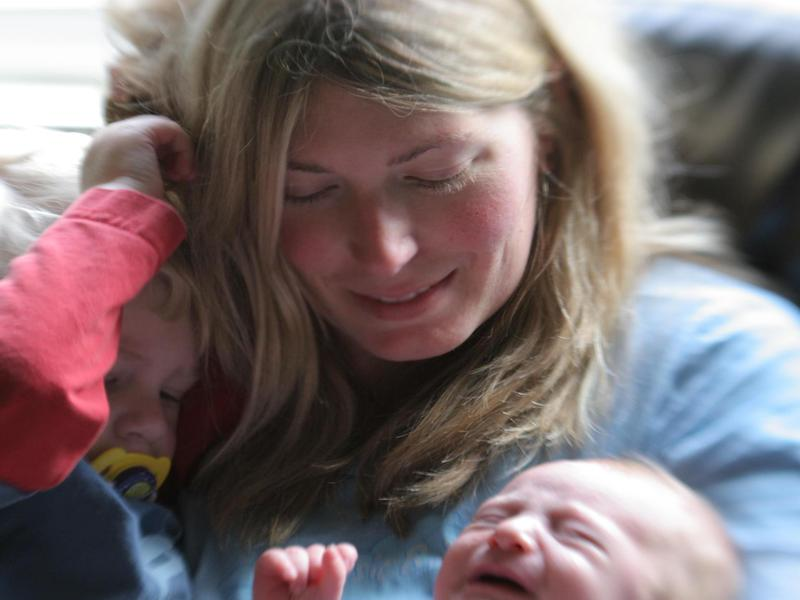person: (99, 3, 800, 599), (1, 114, 358, 600), (424, 451, 747, 600)
